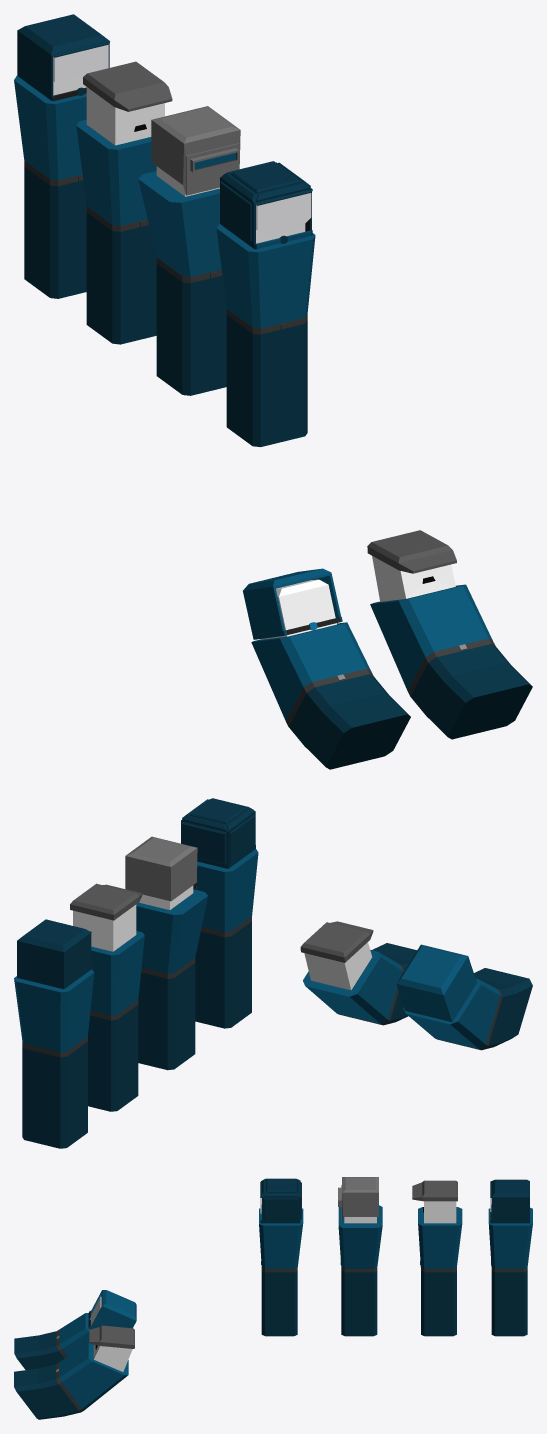
Rendered from Crew.fbx.
3 views of the same model, one above another, from view 1: azimuth 30°, elevation 25°; view 2: azimuth 150°, elevation 25°; view 3: azimuth 270°, elevation 25° (orthographic). The views are drawn at different scales.
Visible parts, largest first — view 1: Comander, Loader, DriverSit, Radio, Driver, Aimer; view 2: Aimer, Loader, Comander, Driver, Radio, DriverSit; view 3: DriverSit, Loader, Comander, Aimer, Driver, Radio.
Part boxes in pixels (x1,y1,x2,y2): Comander: (216,161,315,447); Loader: (138,106,240,395); DriverSit: (367,530,532,739); Radio: (243,568,410,769); Driver: (76,61,172,344); Aimer: (14,14,109,298); Aimer: (14,919,94,1148); Loader: (125,836,207,1070); Comander: (181,798,258,1028); Driver: (70,883,144,1111); Radio: (396,944,532,1050); DriverSit: (300,921,416,1025); DriverSit: (14,1325,134,1419); Loader: (338,1177,382,1336); Comander: (259,1178,303,1336); Aimer: (488,1179,532,1336); Driver: (412,1180,462,1336); Radio: (14,1290,136,1369).
Size of the model in its own units: 146 by 286 by 587.
